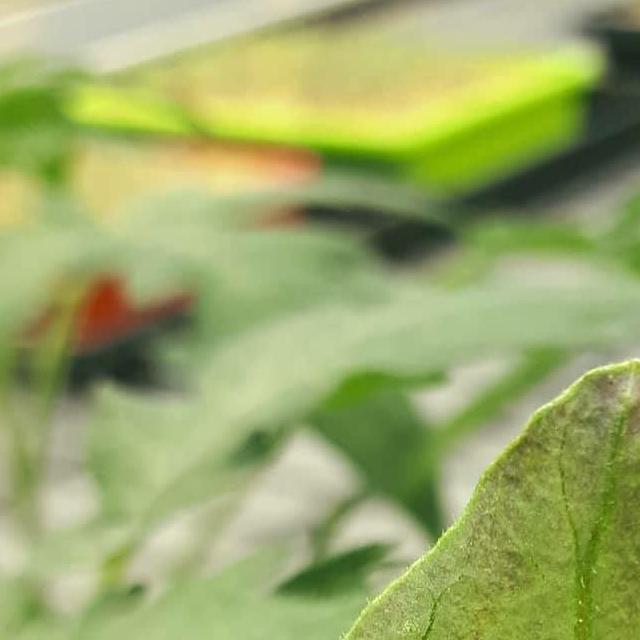Tomato mold leaf: (202, 324, 640, 640)
